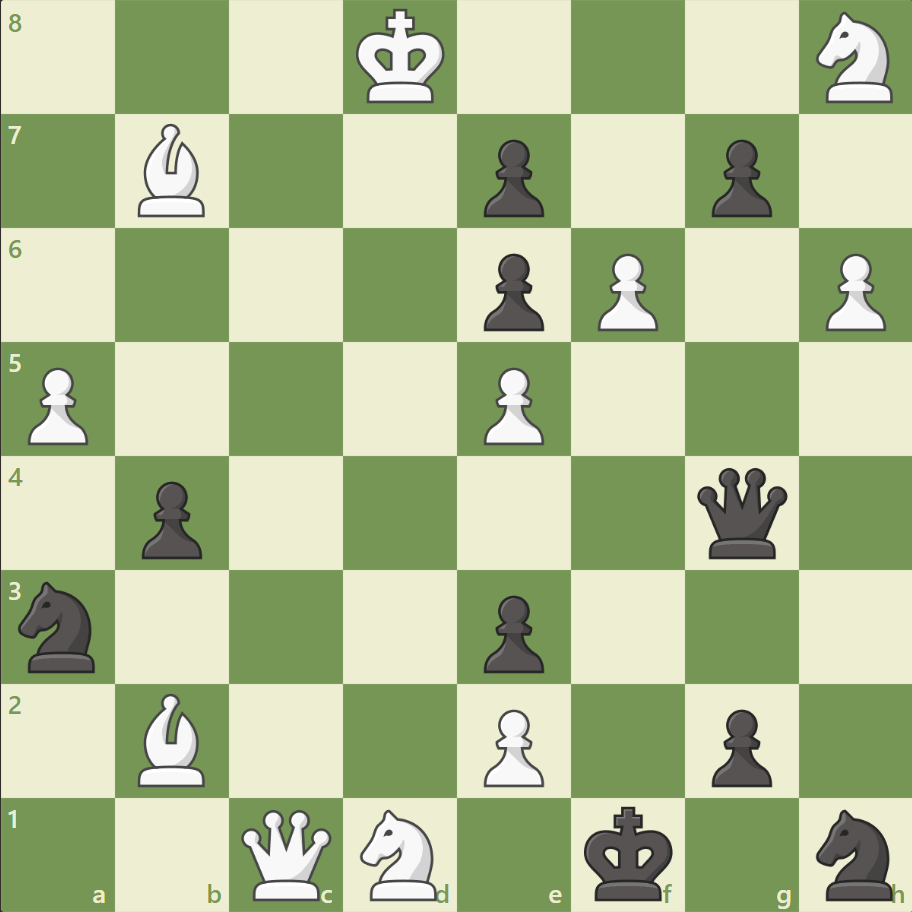B: (131, 687, 215, 790), (131, 120, 215, 222)
K: (351, 4, 451, 112)
N: (351, 802, 449, 904), (806, 7, 903, 110)
P: (20, 359, 95, 450), (474, 359, 549, 450), (474, 700, 549, 791), (588, 246, 662, 337), (815, 246, 889, 337)
Q: (237, 804, 336, 903)
k: (579, 798, 679, 906)
n: (11, 575, 108, 677), (806, 802, 903, 904)
p: (474, 132, 549, 223), (701, 132, 776, 223), (474, 246, 549, 337), (133, 473, 208, 564), (474, 586, 549, 677), (701, 700, 776, 791)
q: (691, 463, 790, 562)
